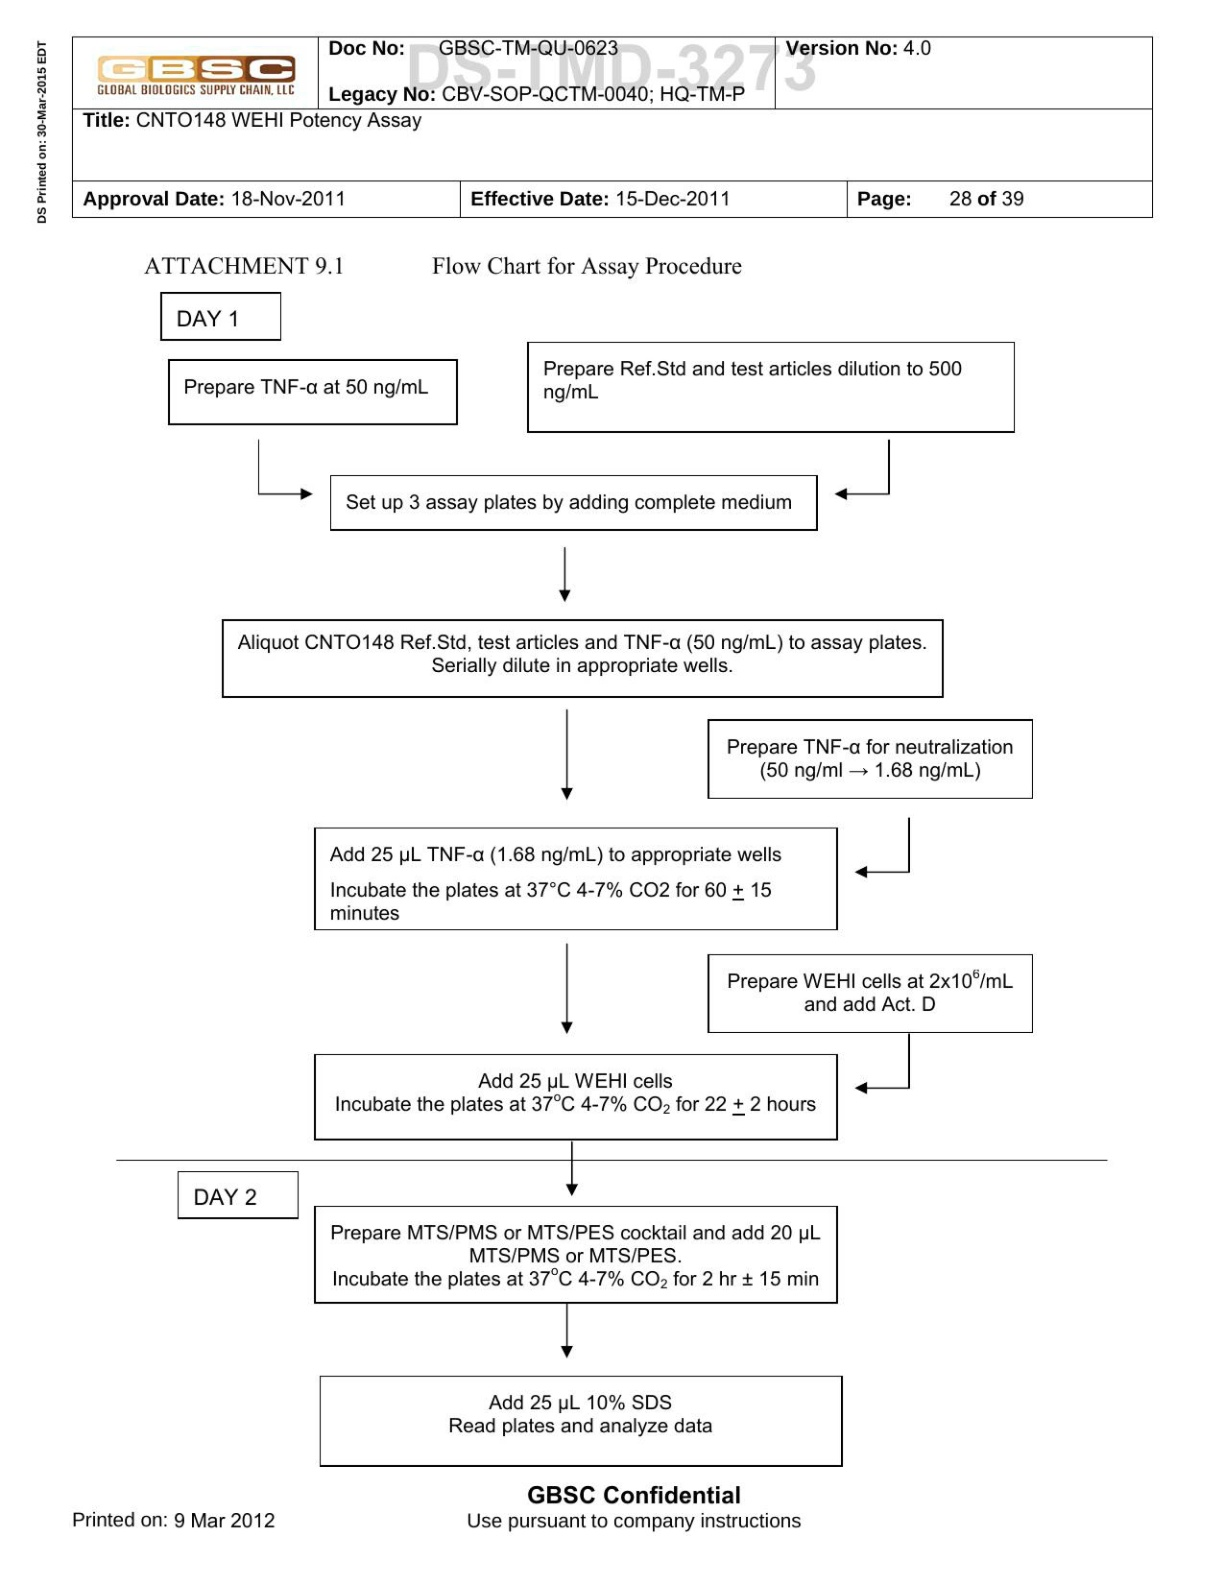merged_cells: (69, 33, 1155, 219)
